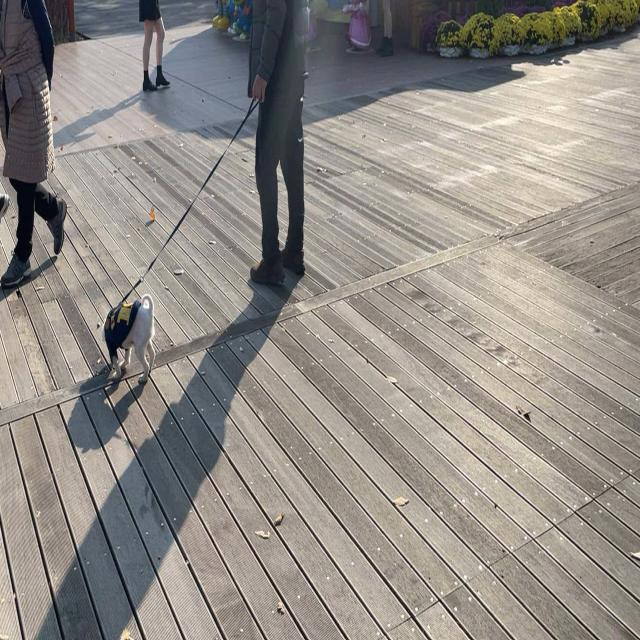Leashed_Dog: (97, 83, 271, 384)
